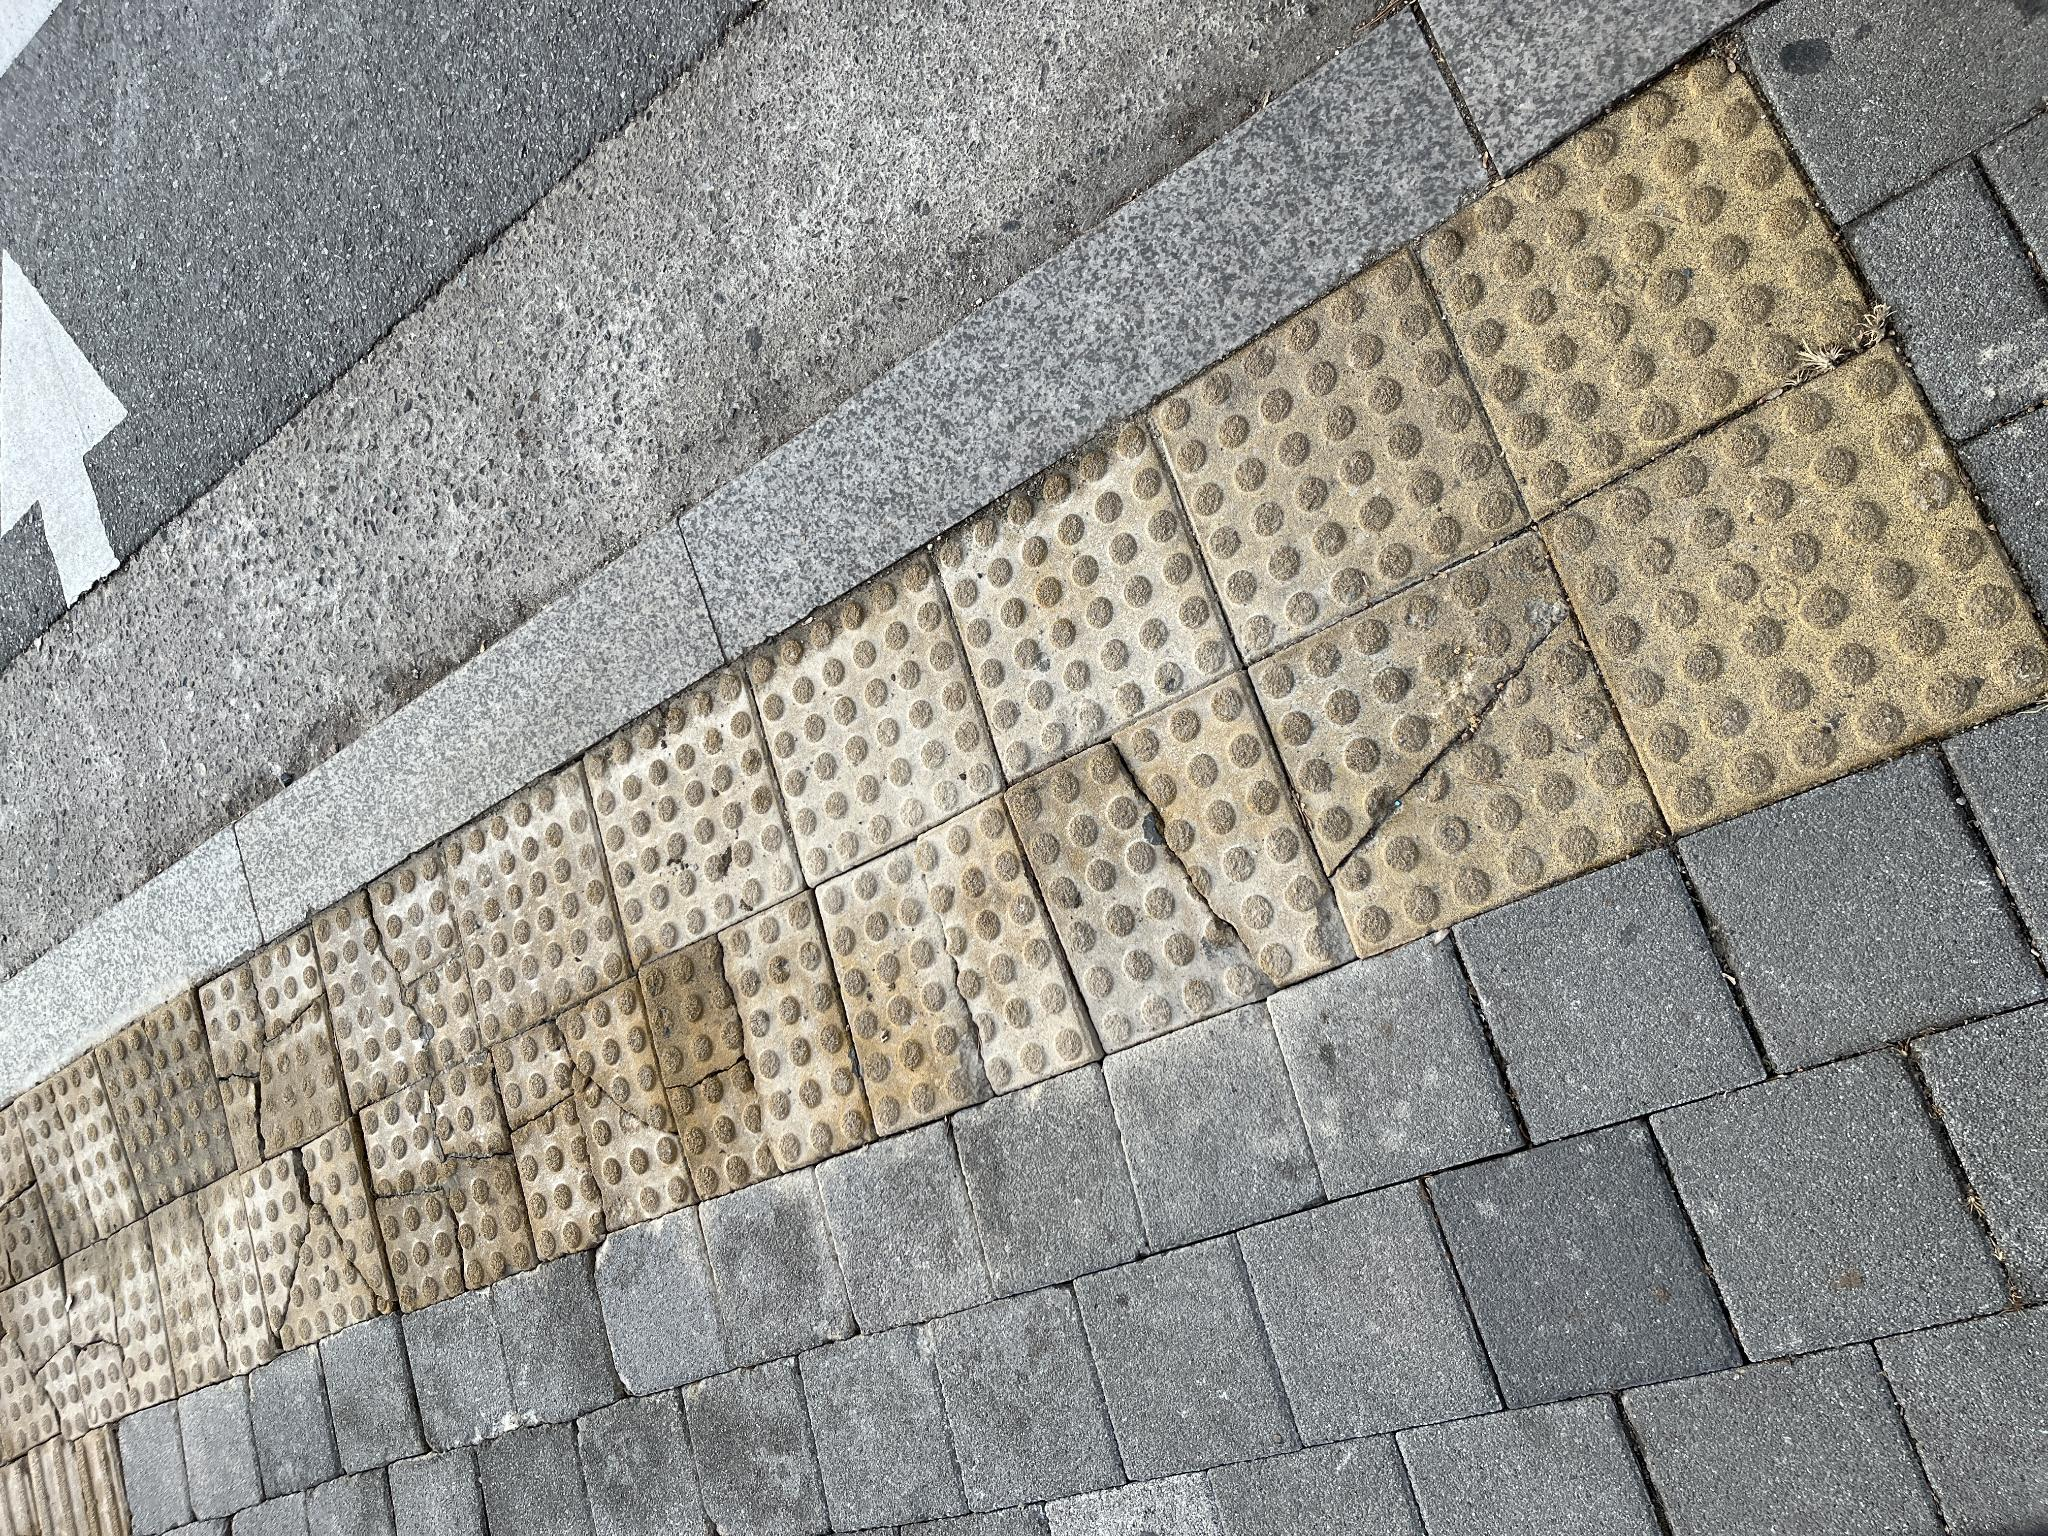Stop block broken: (484, 1002, 860, 1350), (577, 1252, 1005, 1536), (402, 818, 739, 1099), (335, 636, 643, 873), (277, 492, 556, 692), (224, 360, 481, 532), (427, 313, 689, 481), (187, 240, 414, 395), (368, 200, 608, 345), (144, 148, 361, 274), (110, 65, 316, 173)
Stop block normal: (874, 1150, 1282, 1523), (758, 936, 1121, 1236), (650, 745, 985, 1000), (569, 584, 874, 800), (493, 442, 772, 626)
